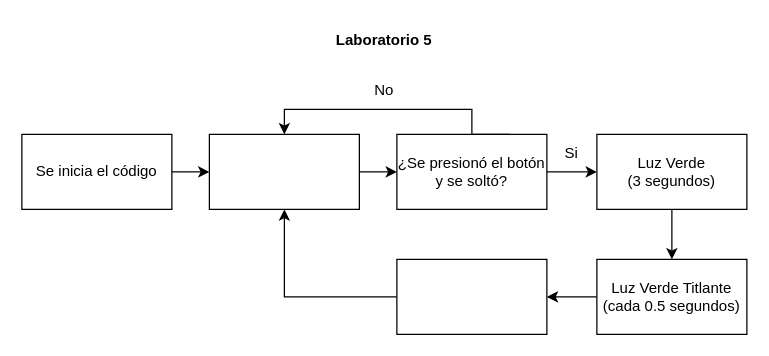
Some shapes in this 769 by 356 pixel diagram are drawn without their labels. Here are the shapes that lost their labels. From the top down, the centre of each, then its label:
At point 283,171: "Luz en rojo".
At point 471,296: "Amarillo (3 segundos)".
